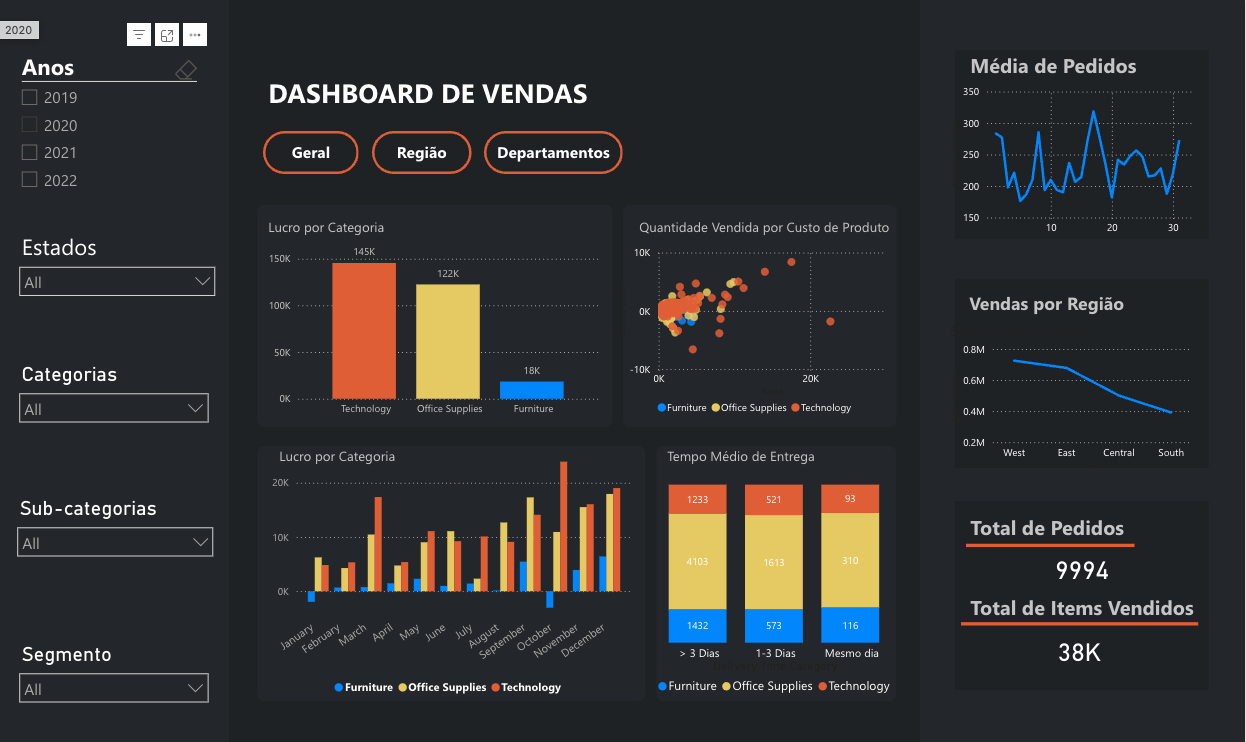

What the dashboard file says about the page in this screenshot:
{"tool":"powerbi","page":{"name":"Geral","canvas":[1500,900],"ordinal":0},"visuals":[{"type":"textbox","box":[317.5,85,411.2,61.2],"z":0},{"type":"textbox","box":[317.5,258.6,382.1,34.2],"z":1000},{"type":"textbox","box":[331.6,535.3,382.1,34.7],"z":2000},{"type":"textbox","box":[764.9,258.6,318.2,34.5],"z":3000},{"type":"textbox","box":[798.9,535.3,382.1,34.7],"z":4000},{"type":"textbox","box":[1163.4,614.7,222.3,48.3],"z":5000},{"type":"textbox","box":[1163,346.4,222.6,47],"z":6000},{"type":"textbox","box":[1163.7,58.3,279.7,53.3],"z":7000},{"type":"clusteredColumnChart","fields":{"Category":["superstore_dataset.category"],"Y":["Sum(superstore_dataset.profit)"]},"box":[317.5,275.7,410.6,235.7],"z":8000},{"type":"lineClusteredColumnComboChart","fields":{"Y":["Sum(superstore_dataset.profit)"],"Category":["superstore_dataset.order_date.Variation.Jerarquía de fechas.Mes"],"Series":["superstore_dataset.category"]},"box":[317.8,536.1,447.3,312.4],"z":9000},{"type":"hundredPercentStackedColumnChart","fields":{"Category":["superstore_dataset.Delivery Time Category"],"Series":["superstore_dataset.category"],"Y":["CountNonNull(superstore_dataset.order_id)"]},"box":[764.2,571.6,341.1,276.3],"z":10000},{"type":"card","fields":{"Values":["CountNonNull(superstore_dataset.order_date)"]},"box":[1254.9,661.7,96.5,48.3],"z":11000},{"type":"lineChart","fields":{"Y":["Sum(superstore_dataset.sales)"],"Category":["superstore_dataset.region"]},"box":[1140,393.2,301.6,178.4],"z":12000},{"type":"card","fields":{"Values":["Sum(superstore_dataset.quantity)"]},"box":[1246.1,760.2,109.7,50.2],"z":13000},{"type":"scatterChart","fields":{"Series":["superstore_dataset.category"],"X":["superstore_dataset.sales"],"Y":["Sum(superstore_dataset.profit)"]},"box":[738.9,292.1,344.2,219.5],"z":14000},{"type":"lineChart","fields":{"Y":["Avg(superstore_dataset.sales)"],"Category":["superstore_dataset.order_date.Variation.Jerarquía de fechas.Día"]},"box":[1140,97.9,303.2,195.8],"z":15000},{"type":"textbox","box":[1163.4,711.3,299.7,49.5],"z":16000},{"type":"shape","box":[1163.4,624.9,203.2,66],"z":17000},{"type":"shape","box":[1158.3,710,285.8,86.4],"z":18000},{"type":"slicer","fields":{"Values":["superstore_dataset.order_date.Variation.Jerarquía de fechas.Año"]},"box":[13.7,58.1,237.5,199.9],"z":19000},{"type":"slicer","fields":{"Values":["superstore_dataset.state"]},"box":[13.7,275.1,256.3,107.6],"z":20000},{"type":"slicer","fields":{"Values":["superstore_dataset.category"]},"box":[13.7,435.6,247.7,150.3],"z":21000},{"type":"slicer","fields":{"Values":["superstore_dataset.subcategory"]},"box":[10.3,597.9,256.3,138.4],"z":22000},{"type":"slicer","fields":{"Values":["superstore_dataset.segment"]},"box":[13.7,773.9,247.7,104.2],"z":23000},{"type":"actionButton","box":[448.7,158.4,119.9,51.8],"z":24000},{"type":"actionButton","title":"Geral","box":[316.9,158.4,115.5,51.8],"z":25000},{"type":"actionButton","box":[583.4,158.4,167.3,51.8],"z":26000}]}

Visuals, with their boxes on the page's 1500x900 design canvas (x1, y1, x2, y2). These are canvas units, not pixel positions in the 1246x742 screenshot, which may show the page scaled, cropped or inside an application window:
textbox: [318, 85, 729, 146]
textbox: [318, 259, 700, 293]
textbox: [332, 535, 714, 570]
textbox: [765, 259, 1083, 293]
textbox: [799, 535, 1181, 570]
textbox: [1163, 615, 1386, 663]
textbox: [1163, 346, 1386, 393]
textbox: [1164, 58, 1443, 112]
clusteredColumnChart - superstore_dataset.category x Sum(superstore_dataset.profit): [318, 276, 728, 511]
lineClusteredColumnComboChart - Sum(superstore_dataset.profit) x superstore_dataset.order_date.Variation.Jerarquía de fechas.Mes: [318, 536, 765, 848]
hundredPercentStackedColumnChart - superstore_dataset.Delivery Time Category x superstore_dataset.category: [764, 572, 1105, 848]
card - CountNonNull(superstore_dataset.order_date): [1255, 662, 1351, 710]
lineChart - Sum(superstore_dataset.sales) x superstore_dataset.region: [1140, 393, 1442, 572]
card - Sum(superstore_dataset.quantity): [1246, 760, 1356, 810]
scatterChart - superstore_dataset.category x superstore_dataset.sales: [739, 292, 1083, 512]
lineChart - Avg(superstore_dataset.sales) x superstore_dataset.order_date.Variation.Jerarquía de fechas.Día: [1140, 98, 1443, 294]
textbox: [1163, 711, 1463, 761]
shape: [1163, 625, 1367, 691]
shape: [1158, 710, 1444, 796]
slicer - superstore_dataset.order_date.Variation.Jerarquía de fechas.Año: [14, 58, 251, 258]
slicer - superstore_dataset.state: [14, 275, 270, 383]
slicer - superstore_dataset.category: [14, 436, 261, 586]
slicer - superstore_dataset.subcategory: [10, 598, 267, 736]
slicer - superstore_dataset.segment: [14, 774, 261, 878]
actionButton: [449, 158, 569, 210]
"Geral" actionButton: [317, 158, 432, 210]
actionButton: [583, 158, 751, 210]
